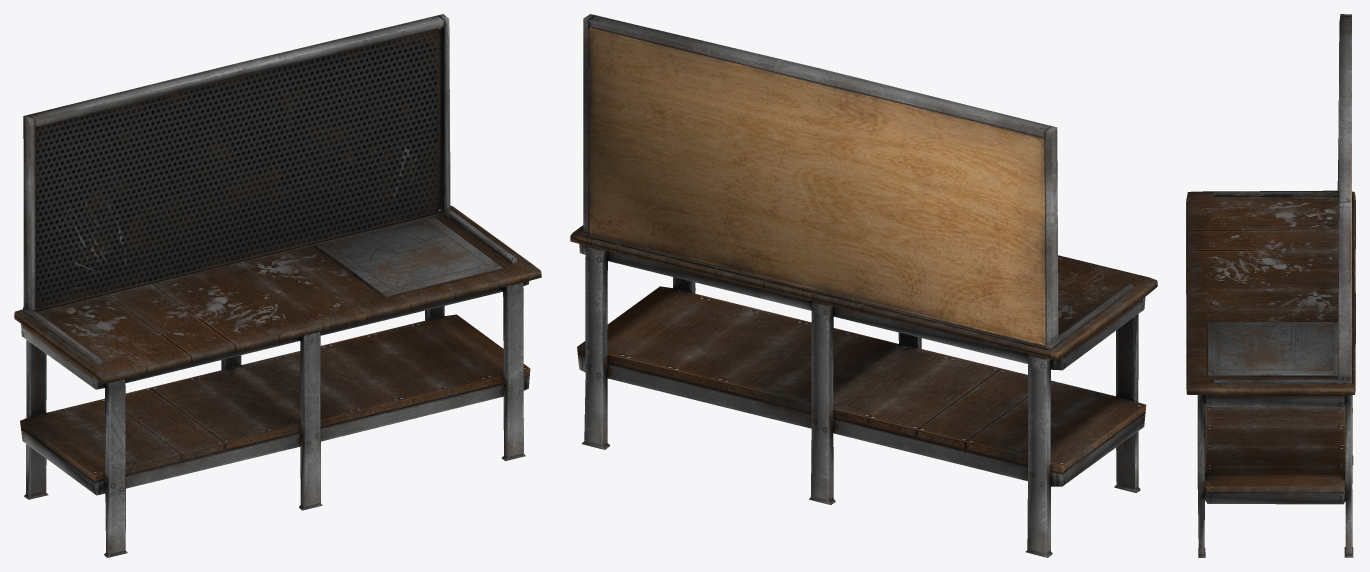
File: workbench2.glb
3 views of the same model, side by side, from view 1: azimuth 30°, elevation 25°; view 2: azimuth 150°, elevation 25°; view 3: azimuth 270°, elevation 25° (orthographic). The views are drawn at different scales.
Visible parts, largest first — view 1: RetopoGroup1; view 2: RetopoGroup1; view 3: RetopoGroup1.
Boxes of the visible parts, x1,y1,x2,y2 form: RetopoGroup1: (14, 14, 541, 557); RetopoGroup1: (570, 14, 1157, 557); RetopoGroup1: (1186, 14, 1355, 557).
Size of the model in its own units: 2.1 by 1.75 by 0.7605.
Materials: 1 (1 with a texture image).
